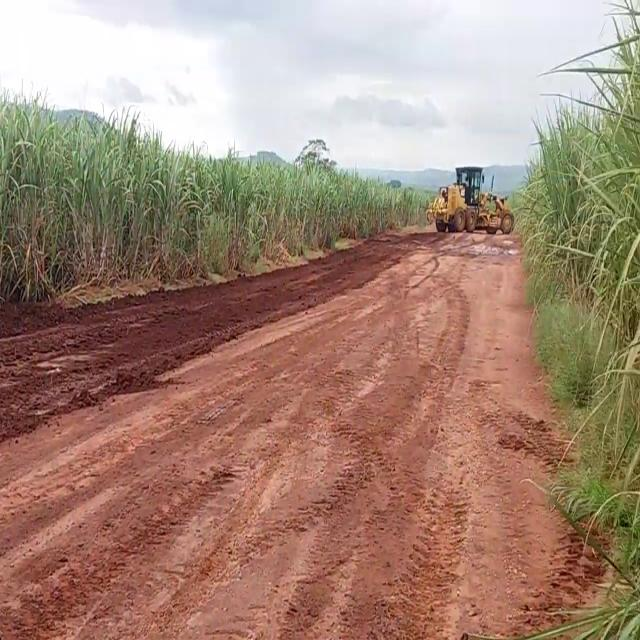buldozerpayloadergrader: (431, 166, 517, 233)
